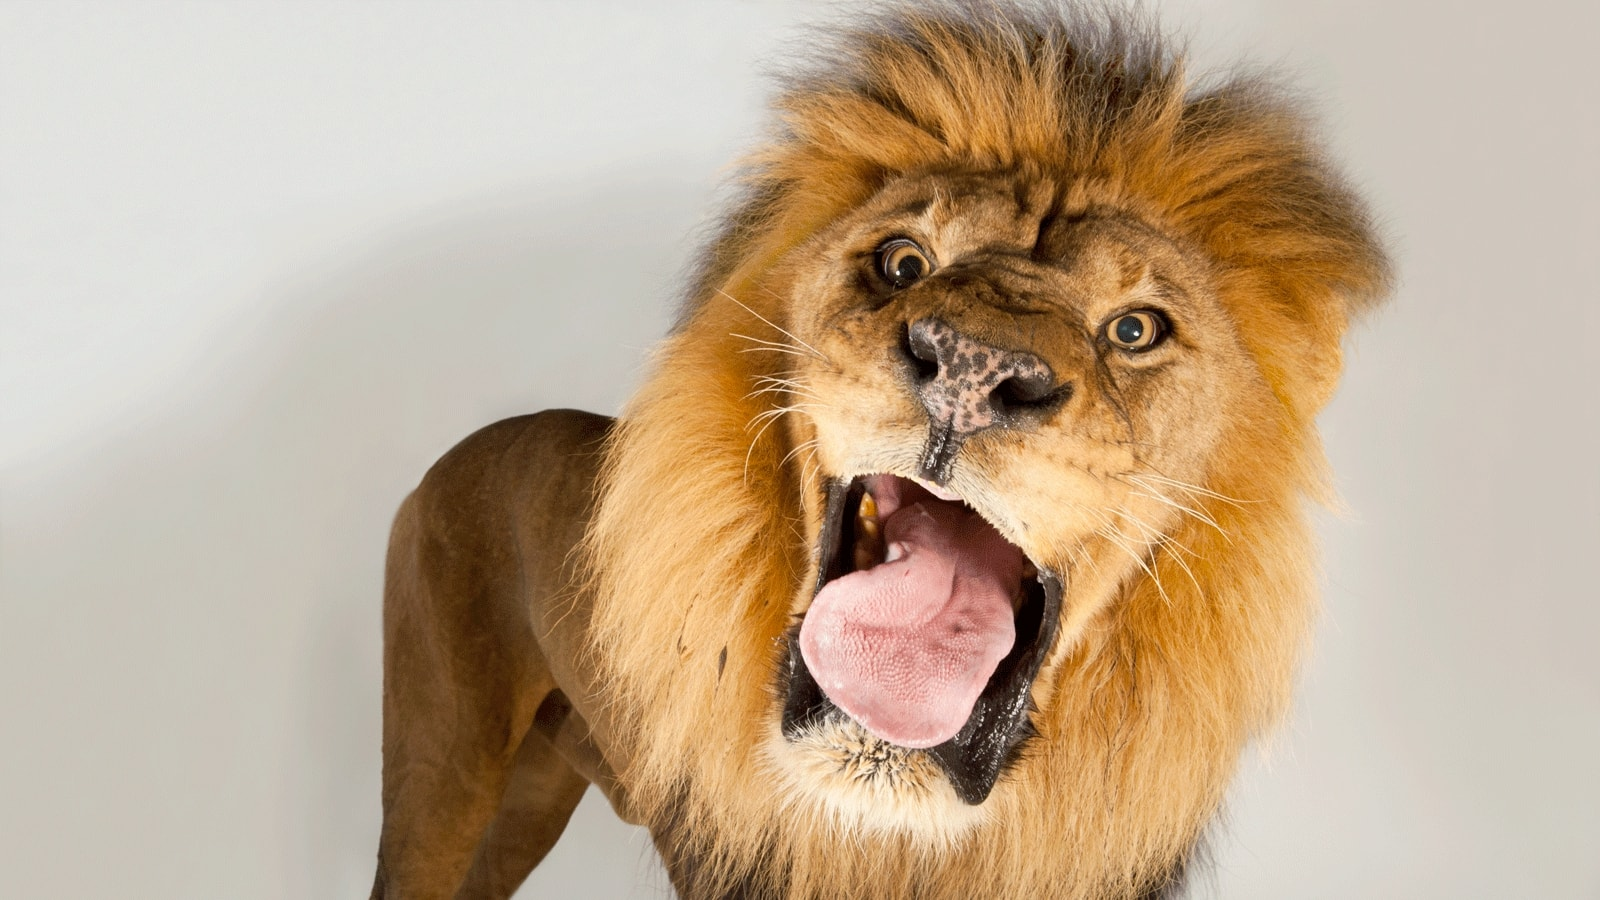lion: (349, 16, 1340, 900)
